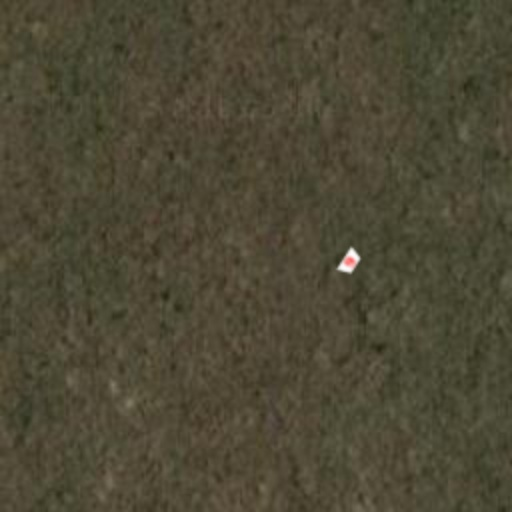trapezoid: (330, 242, 370, 282)
